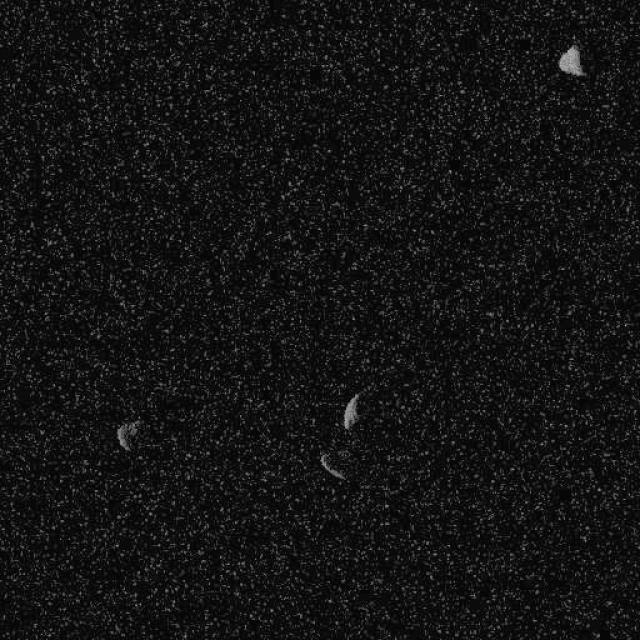D2: (556, 42, 586, 76), (319, 451, 345, 481), (115, 419, 139, 451), (341, 391, 360, 430)
